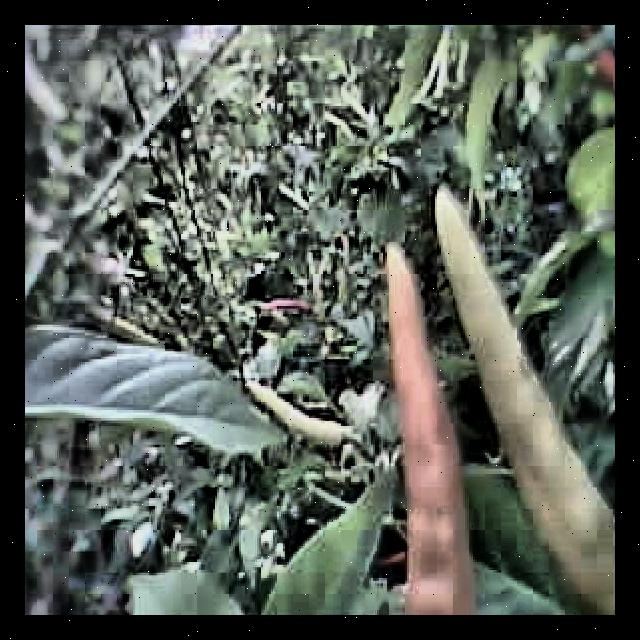Cabai: (369, 236, 451, 615)
